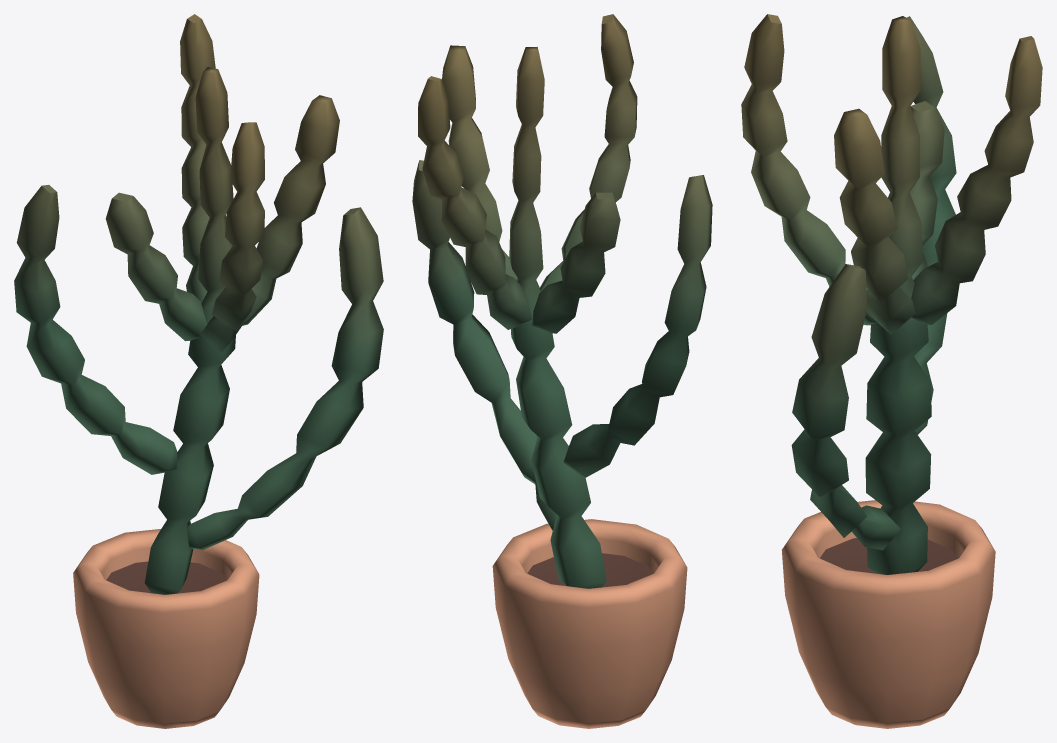
File: flower_001.fbx
3 renders of one model, left to right at view 1: azimuth 30°, elevation 25°; view 2: azimuth 150°, elevation 25°; view 3: azimuth 270°, elevation 25°, orthographic. The views are drawn at different scales.
Parts seen in each view (by area): view 1: flower_001; view 2: flower_001; view 3: flower_001.
Boxes of the visible parts, x1,y1,x2,y2 form: flower_001: [14, 14, 383, 728]; flower_001: [412, 14, 712, 728]; flower_001: [741, 14, 1042, 728].
Size of the model in its own units: 53.3 by 37.8 by 98.85.
